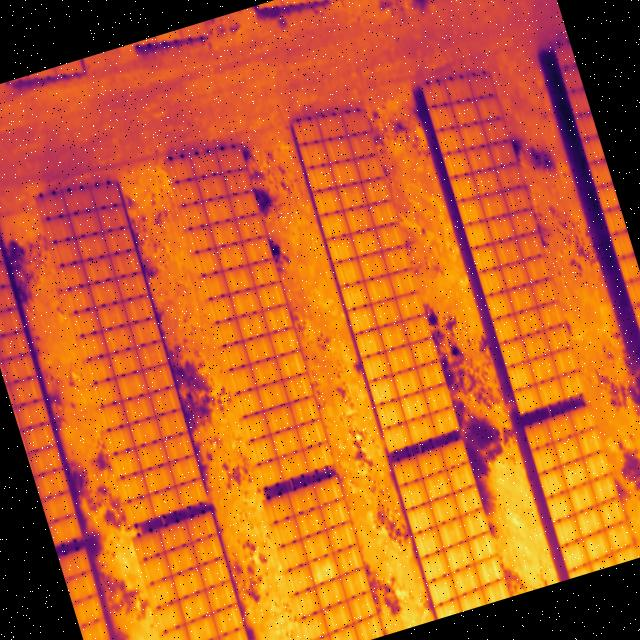Hotspot: (310, 556, 338, 582)
